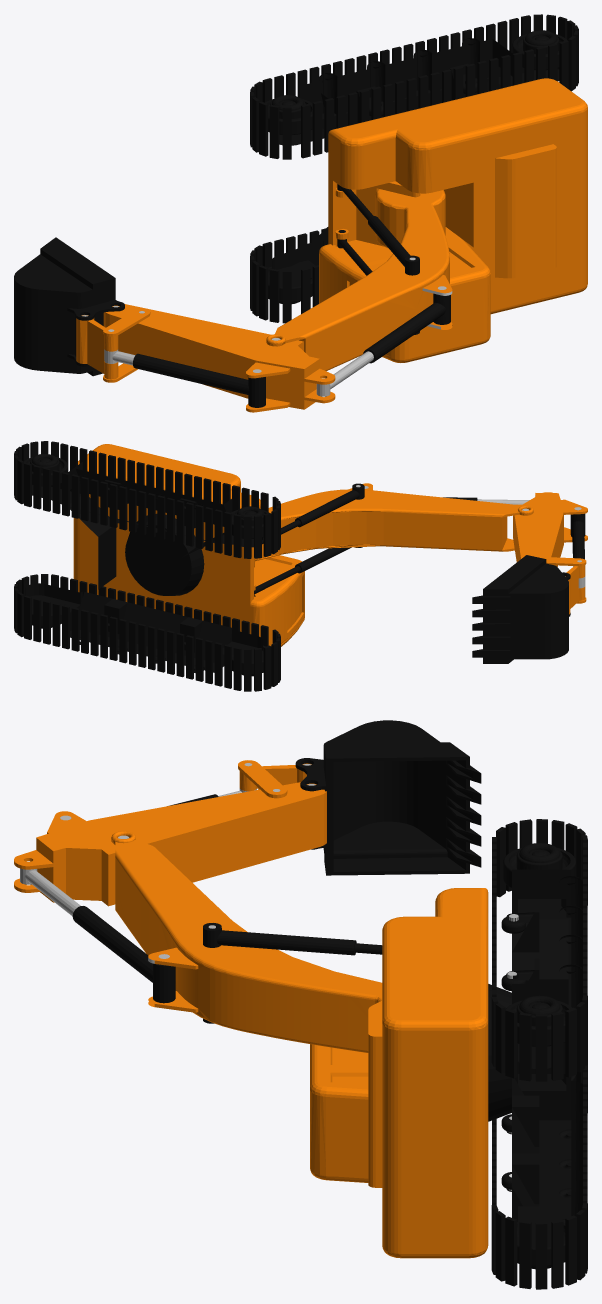
Rendered from excavator.gltf.
3 renders of one model, top to bottom at view 1: azimuth 30°, elevation 25°; view 2: azimuth 150°, elevation 25°; view 3: azimuth 270°, elevation 25°, orthographic. The views are drawn at different scales.
Visible parts, largest first — view 1: Z_UP; view 2: Z_UP; view 3: Z_UP.
Part boxes in pixels (<box>): Z_UP: <box>14,14,587,412</box>; Z_UP: <box>14,441,587,691</box>; Z_UP: <box>14,720,587,1289</box>.
Size of the model in its own units: 119 by 39.74 by 75.68.
